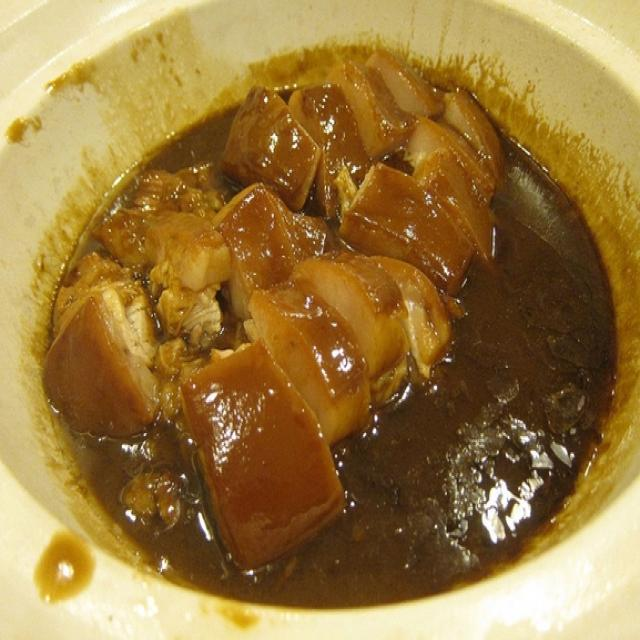牛肉菜式: (31, 21, 583, 558)
